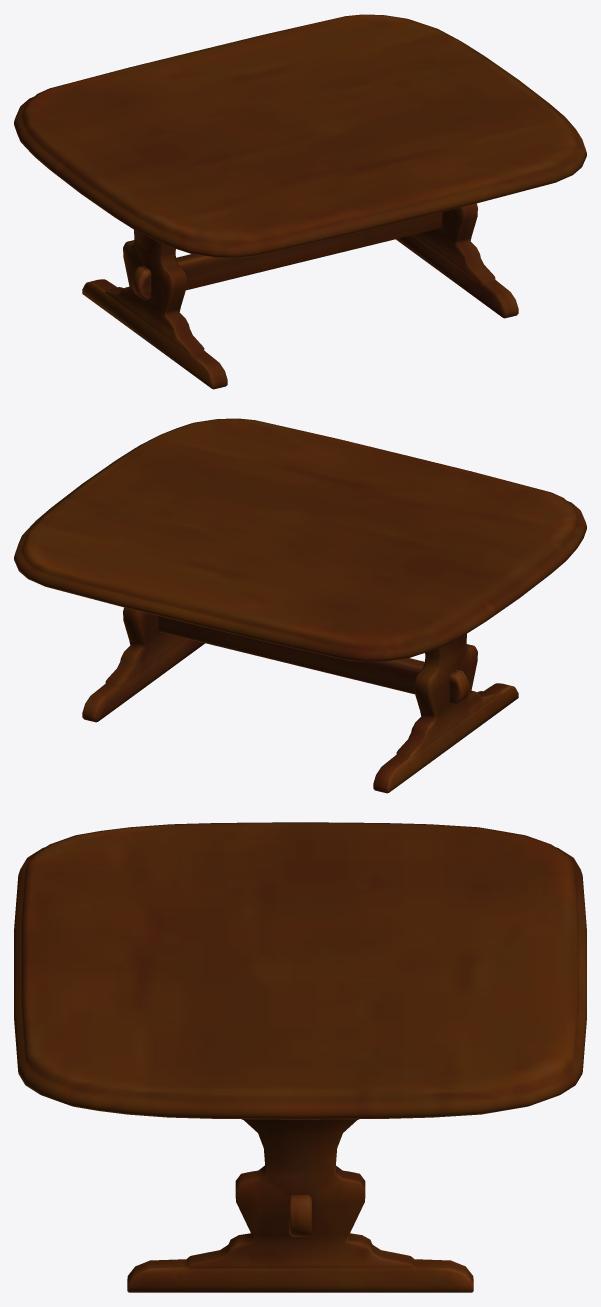
3 views of the same model, one above another, from view 1: azimuth 30°, elevation 25°; view 2: azimuth 150°, elevation 25°; view 3: azimuth 270°, elevation 25° (orthographic). The views are drawn at different scales.
Size of the model in its own units: 19.48 by 7.6 by 16.61.
1 material, 1 textured.
